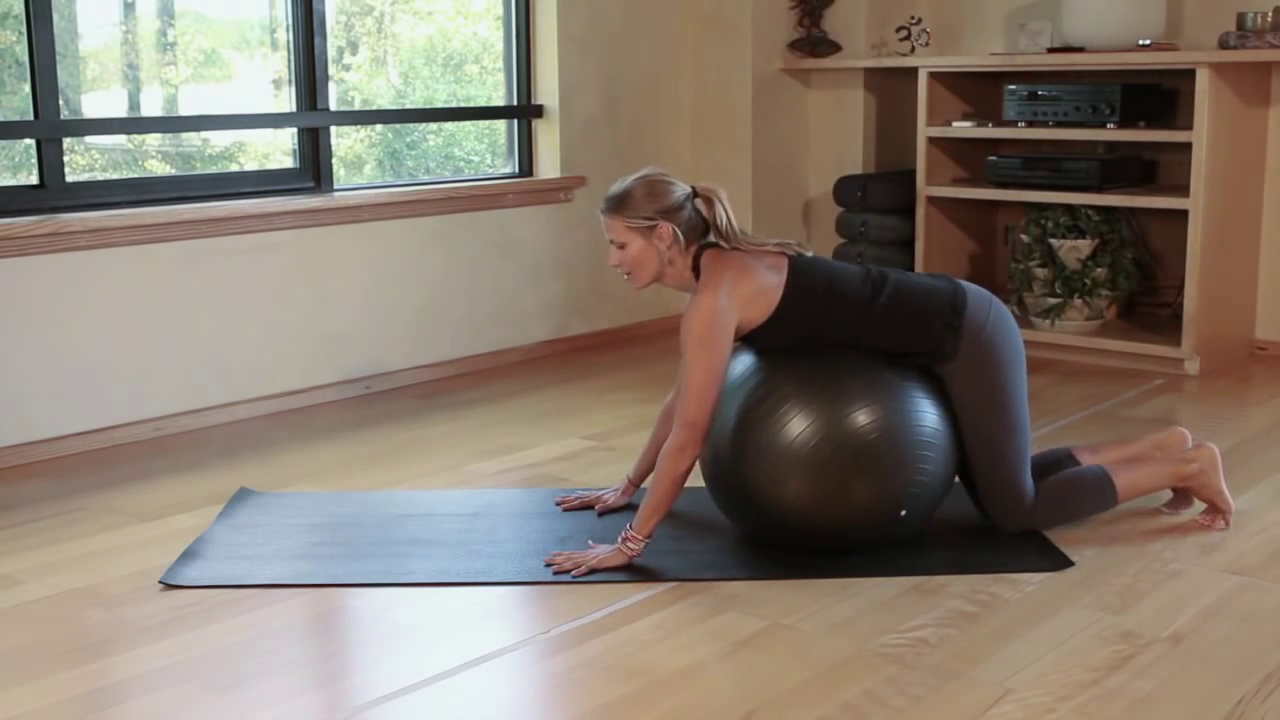yogaball: (698, 343, 964, 564)
